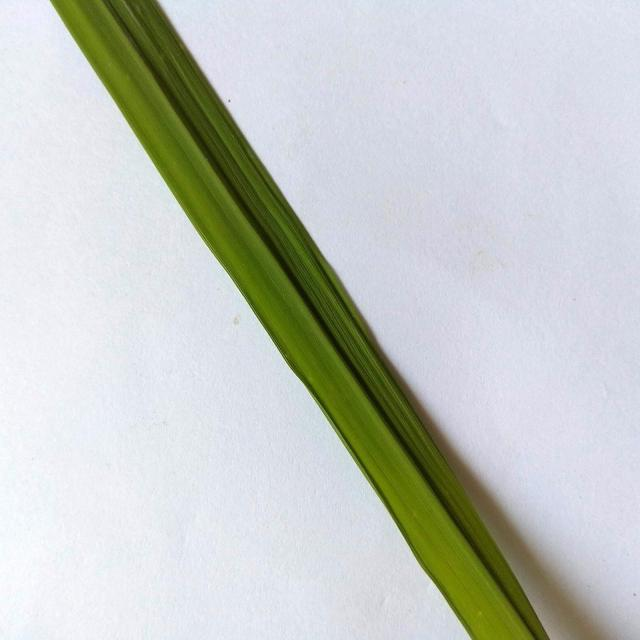healthy: (48, 1, 562, 640)
